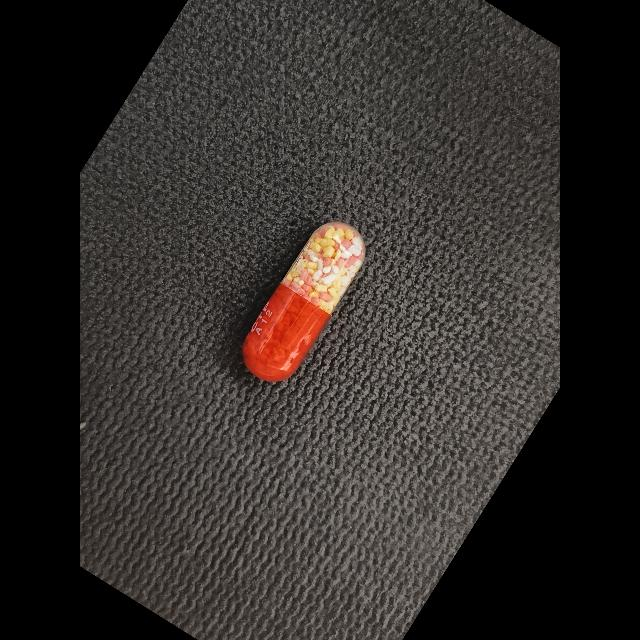Intact Capsule: (242, 222, 365, 381)
